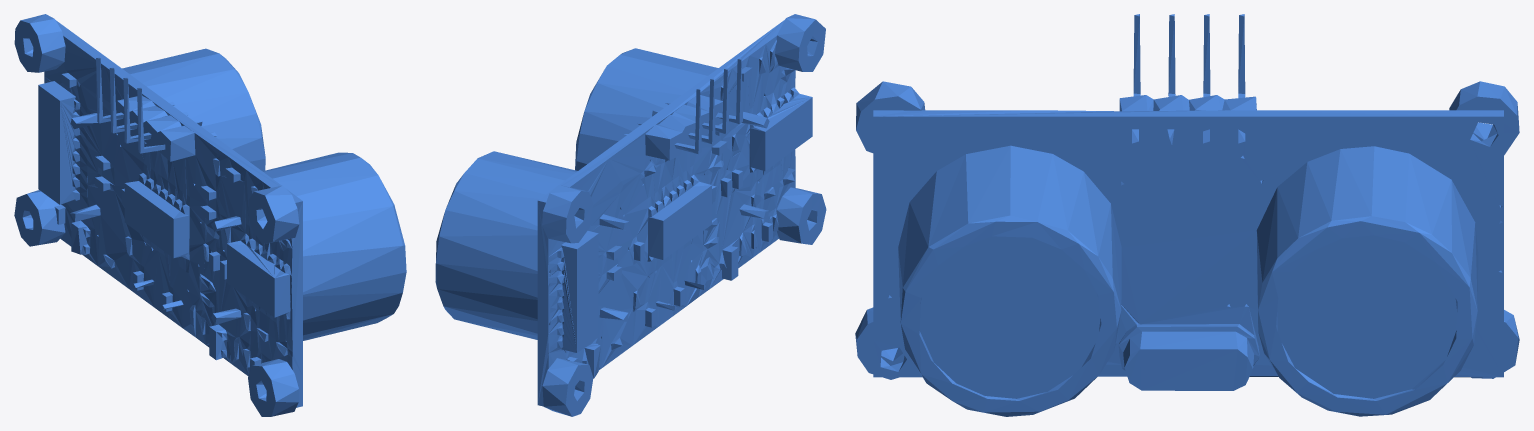
Rendered from ul_sensor.dae.
The picture shows the model from 3 angles, left to right: view 1: azimuth 30°, elevation 25°; view 2: azimuth 150°, elevation 25°; view 3: azimuth 270°, elevation 25°; orthographic projection. The views are drawn at different scales.
Visible parts, largest first — view 1: node; view 2: node; view 3: node.
Part boxes in pixels (x1=…): node: x1=14, y1=14, x2=406, y2=416; node: x1=435, y1=14, x2=826, y2=416; node: x1=855, y1=14, x2=1519, y2=416.
Size of the model in its own units: 0.0185 by 0.0476 by 0.0265.
